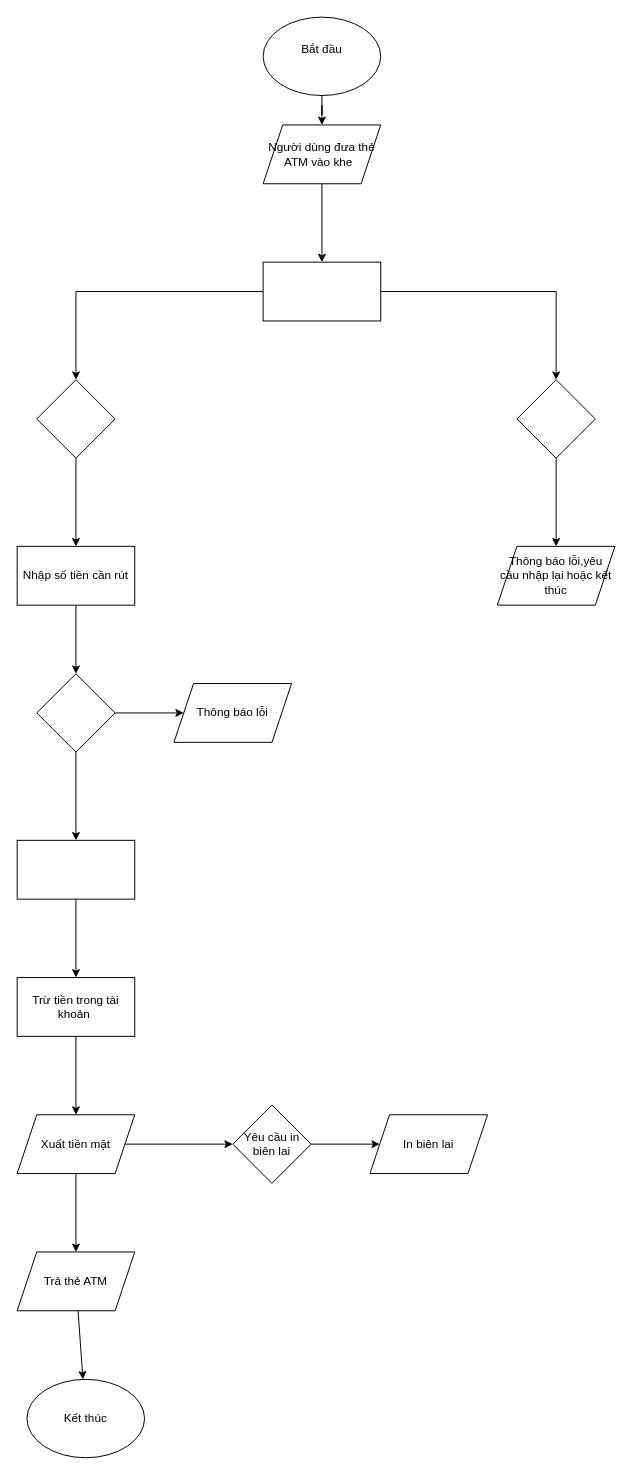
The diagram is 632 pixels wide and 1475 high, and some of its shapes have lost their labels. The shapes that lost their labels are listed below. From the top down, each one's box as (x1, y1, x2, y2) in pixels, then its label:
(262, 261, 381, 321): Nhập mã PIN
(36, 379, 115, 458): PIN đúng
(516, 379, 595, 458): PIN sai
(36, 673, 115, 752): Hệ thống kiếm tra hợp lệ hay không
(16, 839, 135, 899): Gửi yêu cầu rút tới ngân hàng
